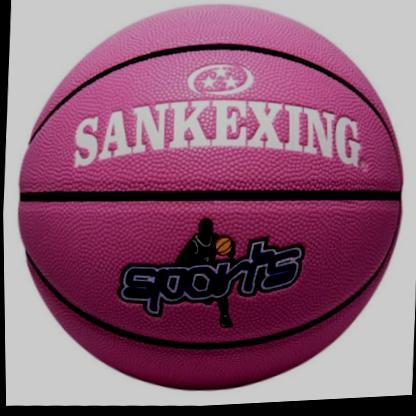basketball: (5, 0, 415, 411)
